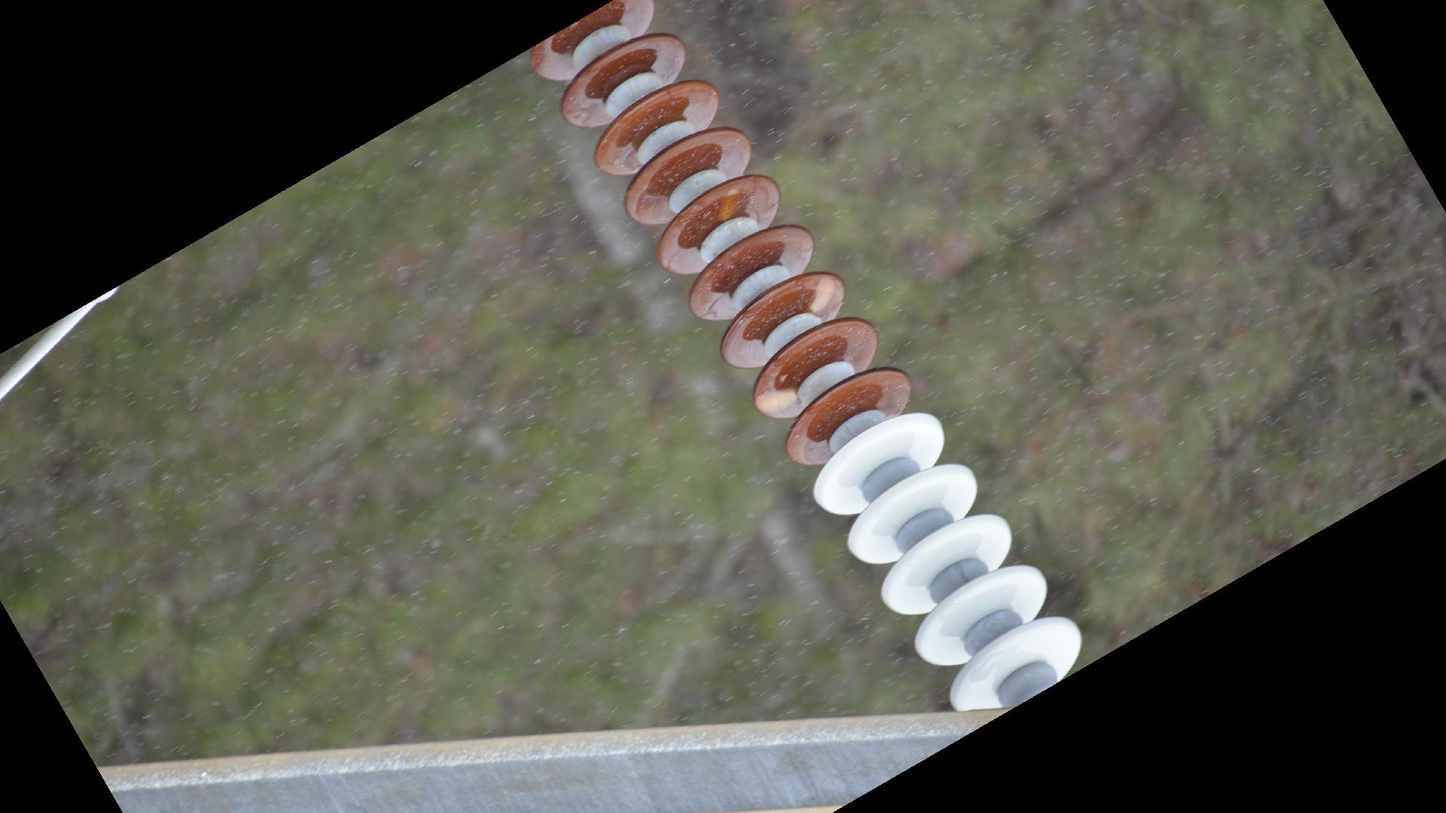insulator: (524, 1, 1088, 720)
insulator_flashover: (754, 383, 798, 416), (809, 273, 838, 313), (715, 187, 743, 224)
